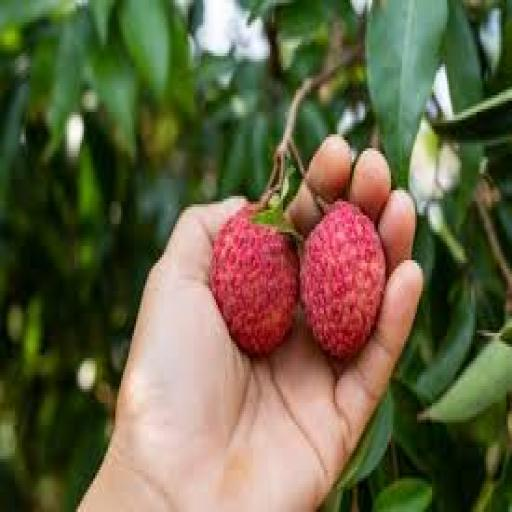lychee: (300, 202, 385, 358), (211, 208, 299, 355)
